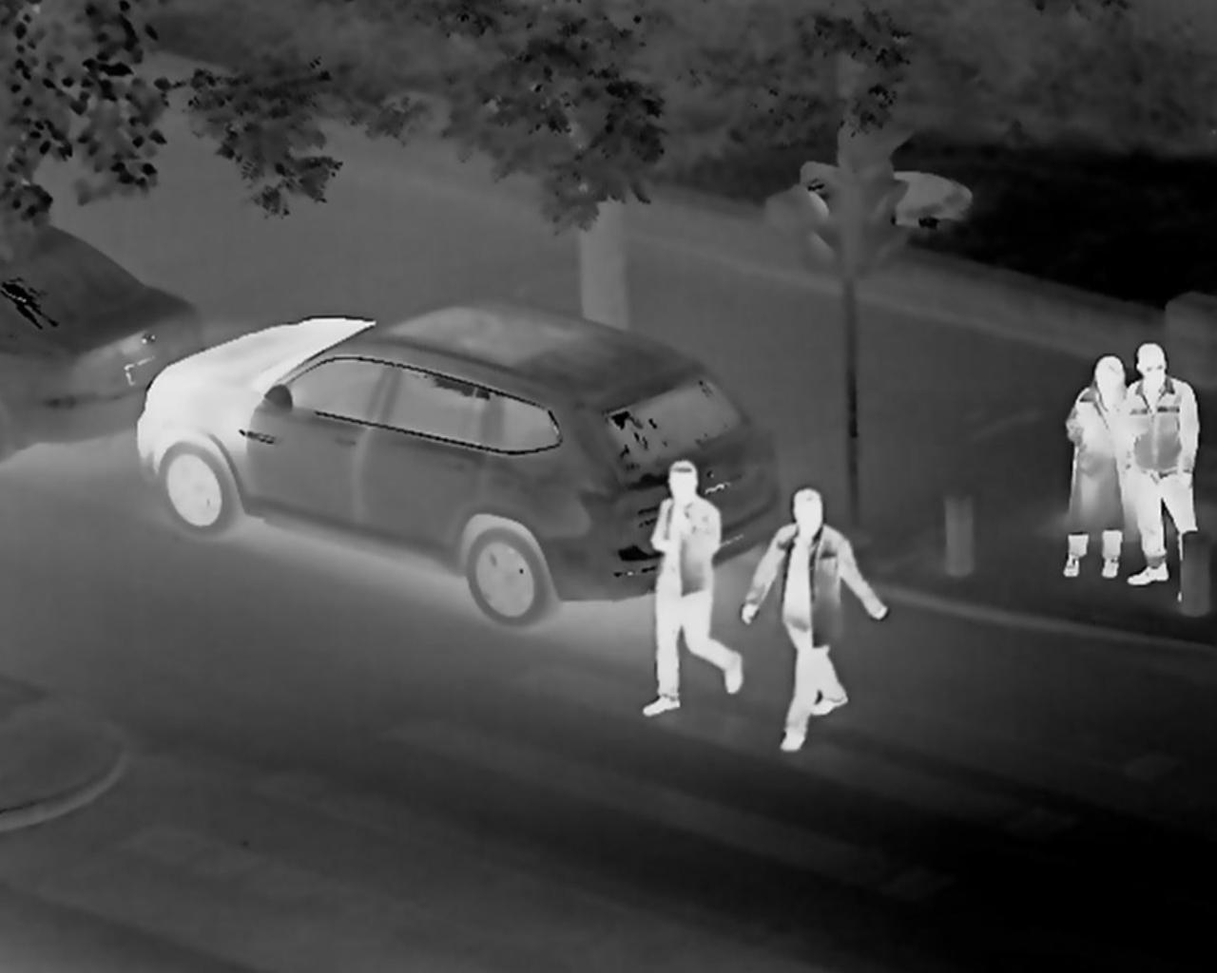person: (625, 441, 735, 722), (753, 473, 861, 739), (1125, 334, 1184, 572), (1067, 336, 1116, 616)
